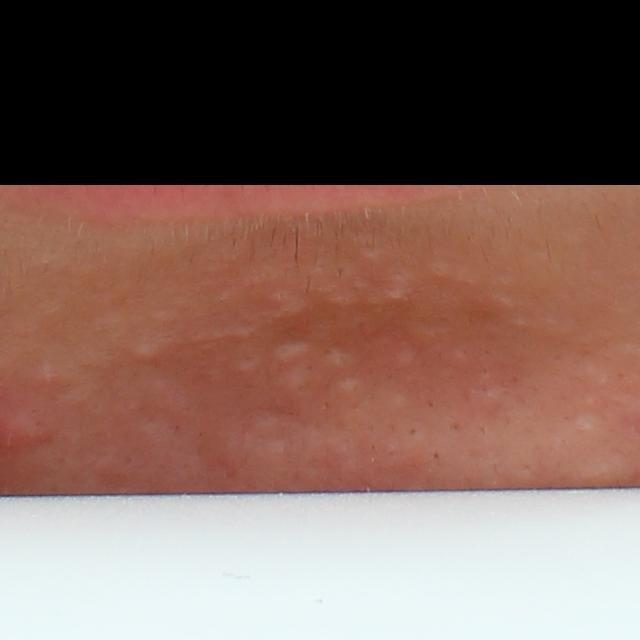comedo: (404, 421, 426, 441), (431, 449, 442, 463), (425, 398, 435, 411)
hypertrophic_scar: (216, 405, 385, 467), (32, 317, 128, 401), (425, 248, 513, 286), (258, 287, 312, 326), (187, 325, 259, 348), (565, 406, 610, 438), (269, 341, 315, 364), (126, 339, 163, 364), (369, 286, 412, 306), (388, 343, 418, 367), (387, 386, 418, 407), (489, 292, 527, 309), (475, 383, 515, 398), (356, 246, 384, 266), (326, 292, 363, 307), (324, 349, 353, 366), (335, 372, 360, 391), (419, 320, 447, 335)
